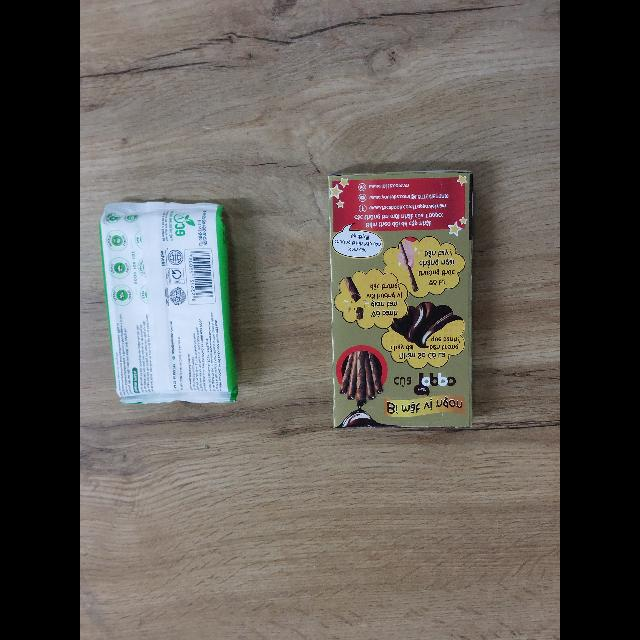banh_toppo_socola: (328, 171, 473, 428)
khan_giay: (100, 202, 237, 404)
